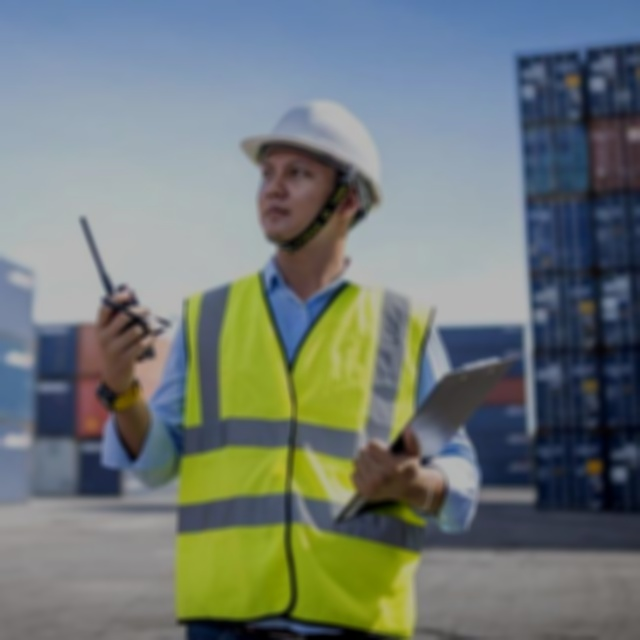Con_Casco: (237, 98, 387, 251)
Con_Chaleco: (169, 274, 428, 625)
